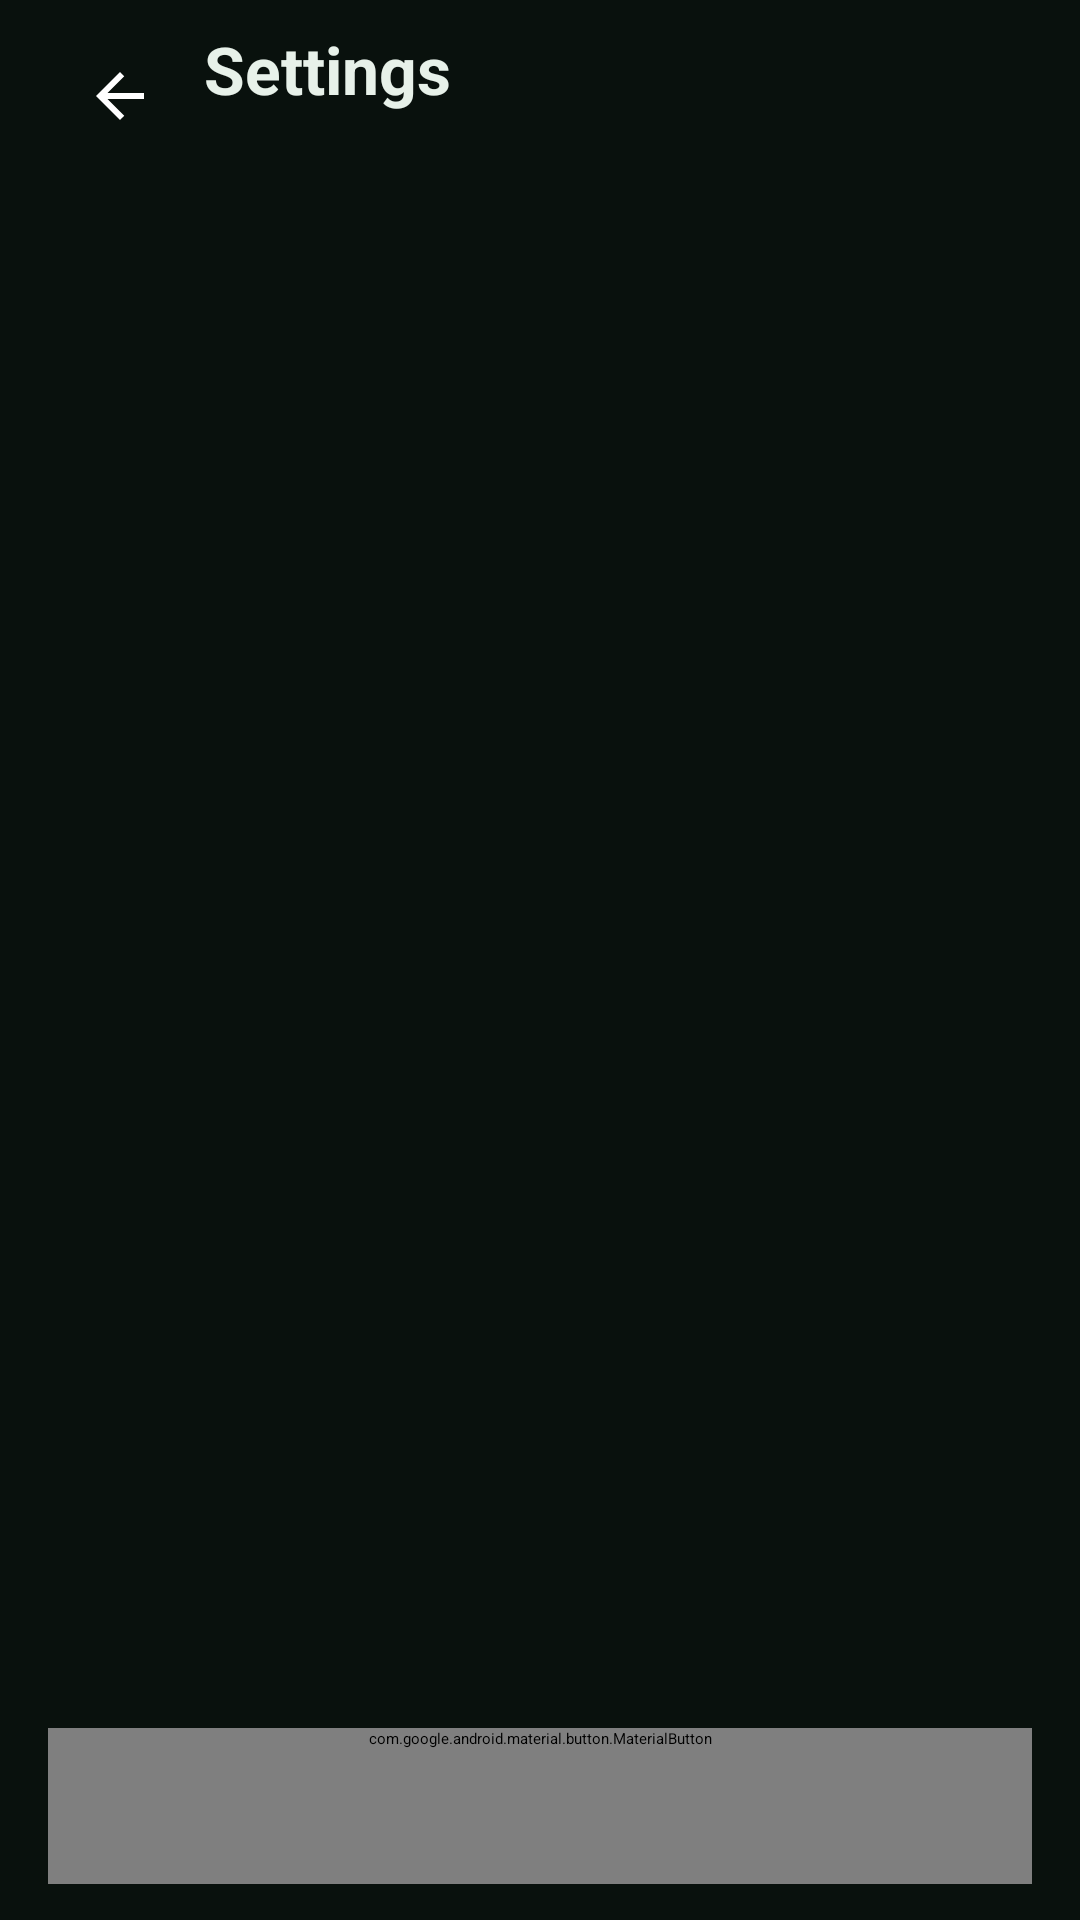

Icon click points for this 1080*1920 phone screenshot, format (x=x, y=y):
Back to scenario detail: (x=120, y=96)
